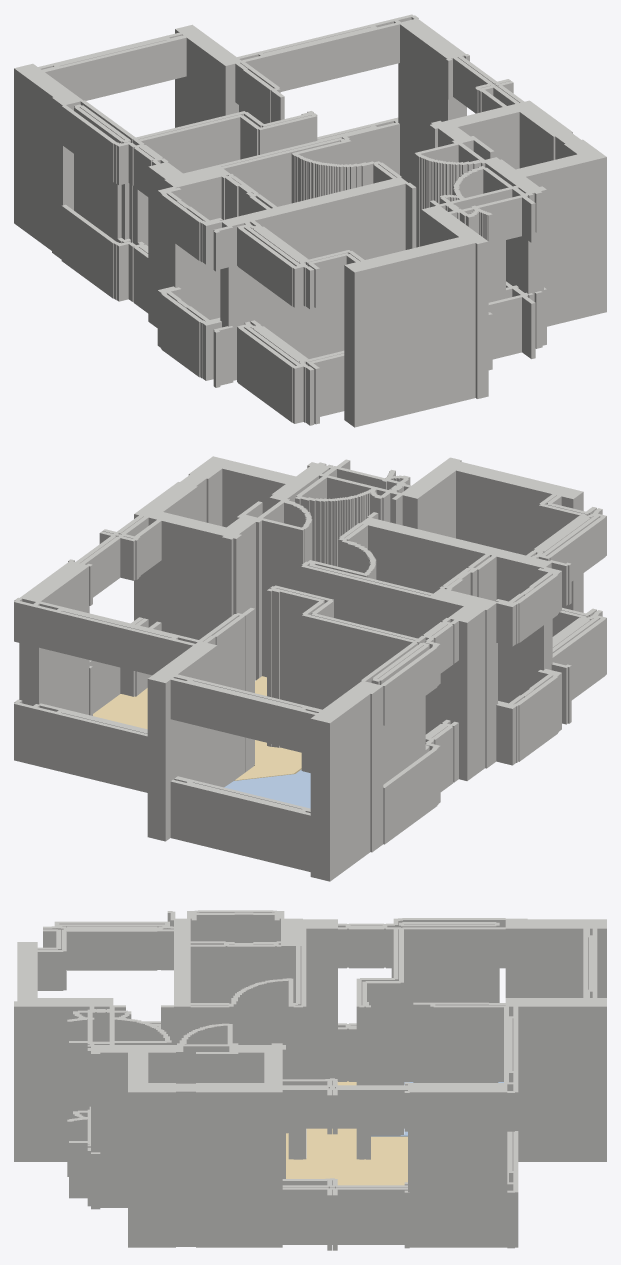
3 renders of one model, top to bottom at view 1: azimuth 30°, elevation 25°; view 2: azimuth 150°, elevation 25°; view 3: azimuth 270°, elevation 25°, orthographic. The views are drawn at different scales.
Parts seen in each view (by area): view 1: walls; view 2: walls, room:living:1, room:bedroom:0; view 3: walls, room:living:1.
Boxes of the visible parts, bbox=[...] form: walls: bbox=[14, 14, 606, 427]; walls: bbox=[14, 456, 606, 881]; room:living:1: bbox=[93, 676, 301, 780]; room:bedroom:0: bbox=[224, 769, 310, 808]; walls: bbox=[14, 910, 606, 1250]; room:living:1: bbox=[286, 1081, 407, 1185].
Size of the model in its own units: 7.16 by 2.8 by 9.69.
